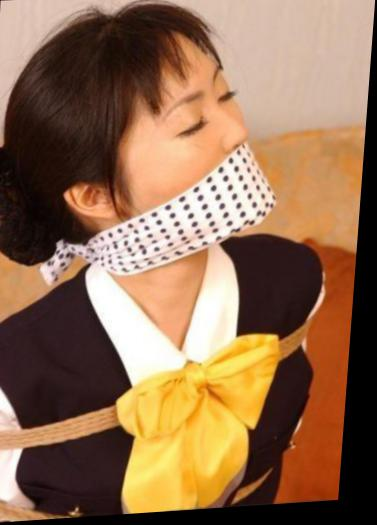WRONG: (108, 76, 273, 241)
